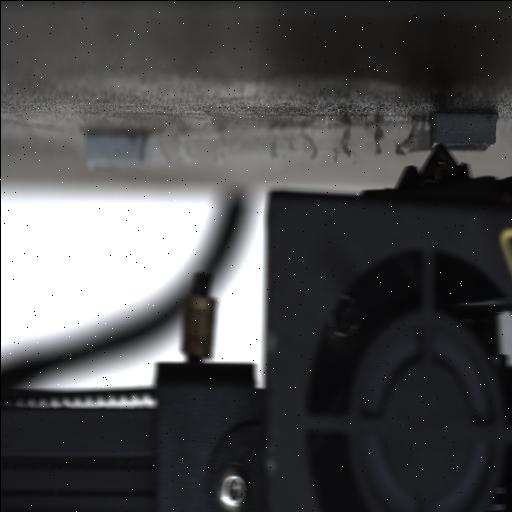stringing: (267, 128, 315, 162), (396, 118, 428, 155), (331, 122, 353, 162), (150, 132, 172, 166), (176, 132, 194, 164), (372, 119, 384, 154), (214, 132, 227, 164), (134, 130, 146, 162), (268, 132, 279, 158)
